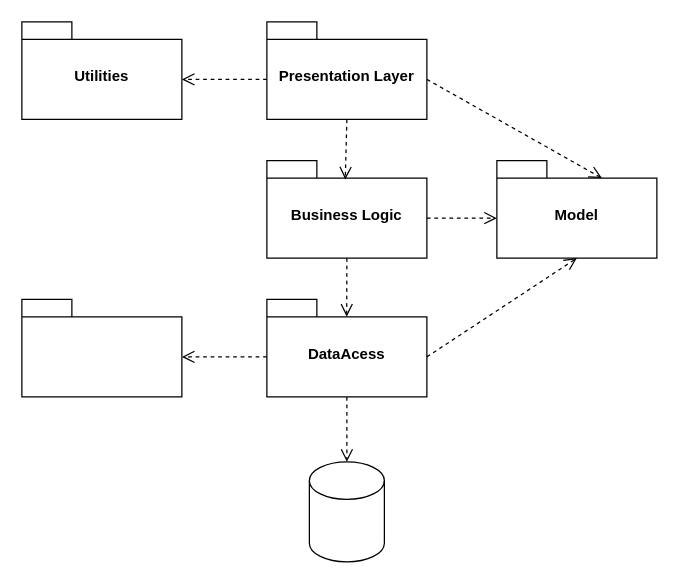
The diagram is 679 pixels wide and 584 high, and some of its shapes have lost their labels. The shapes that lost their labels are listed below. From the top down, each one's centre as x and y in pixels, then its label:
point (101, 347): Connection
point (346, 511): OrdersDB
